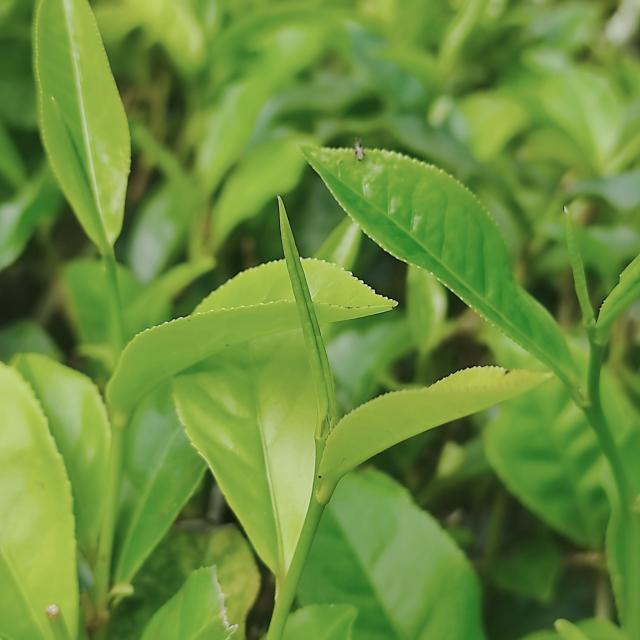unopened_leaf: (268, 186, 351, 444), (42, 87, 131, 271), (552, 195, 612, 335)
